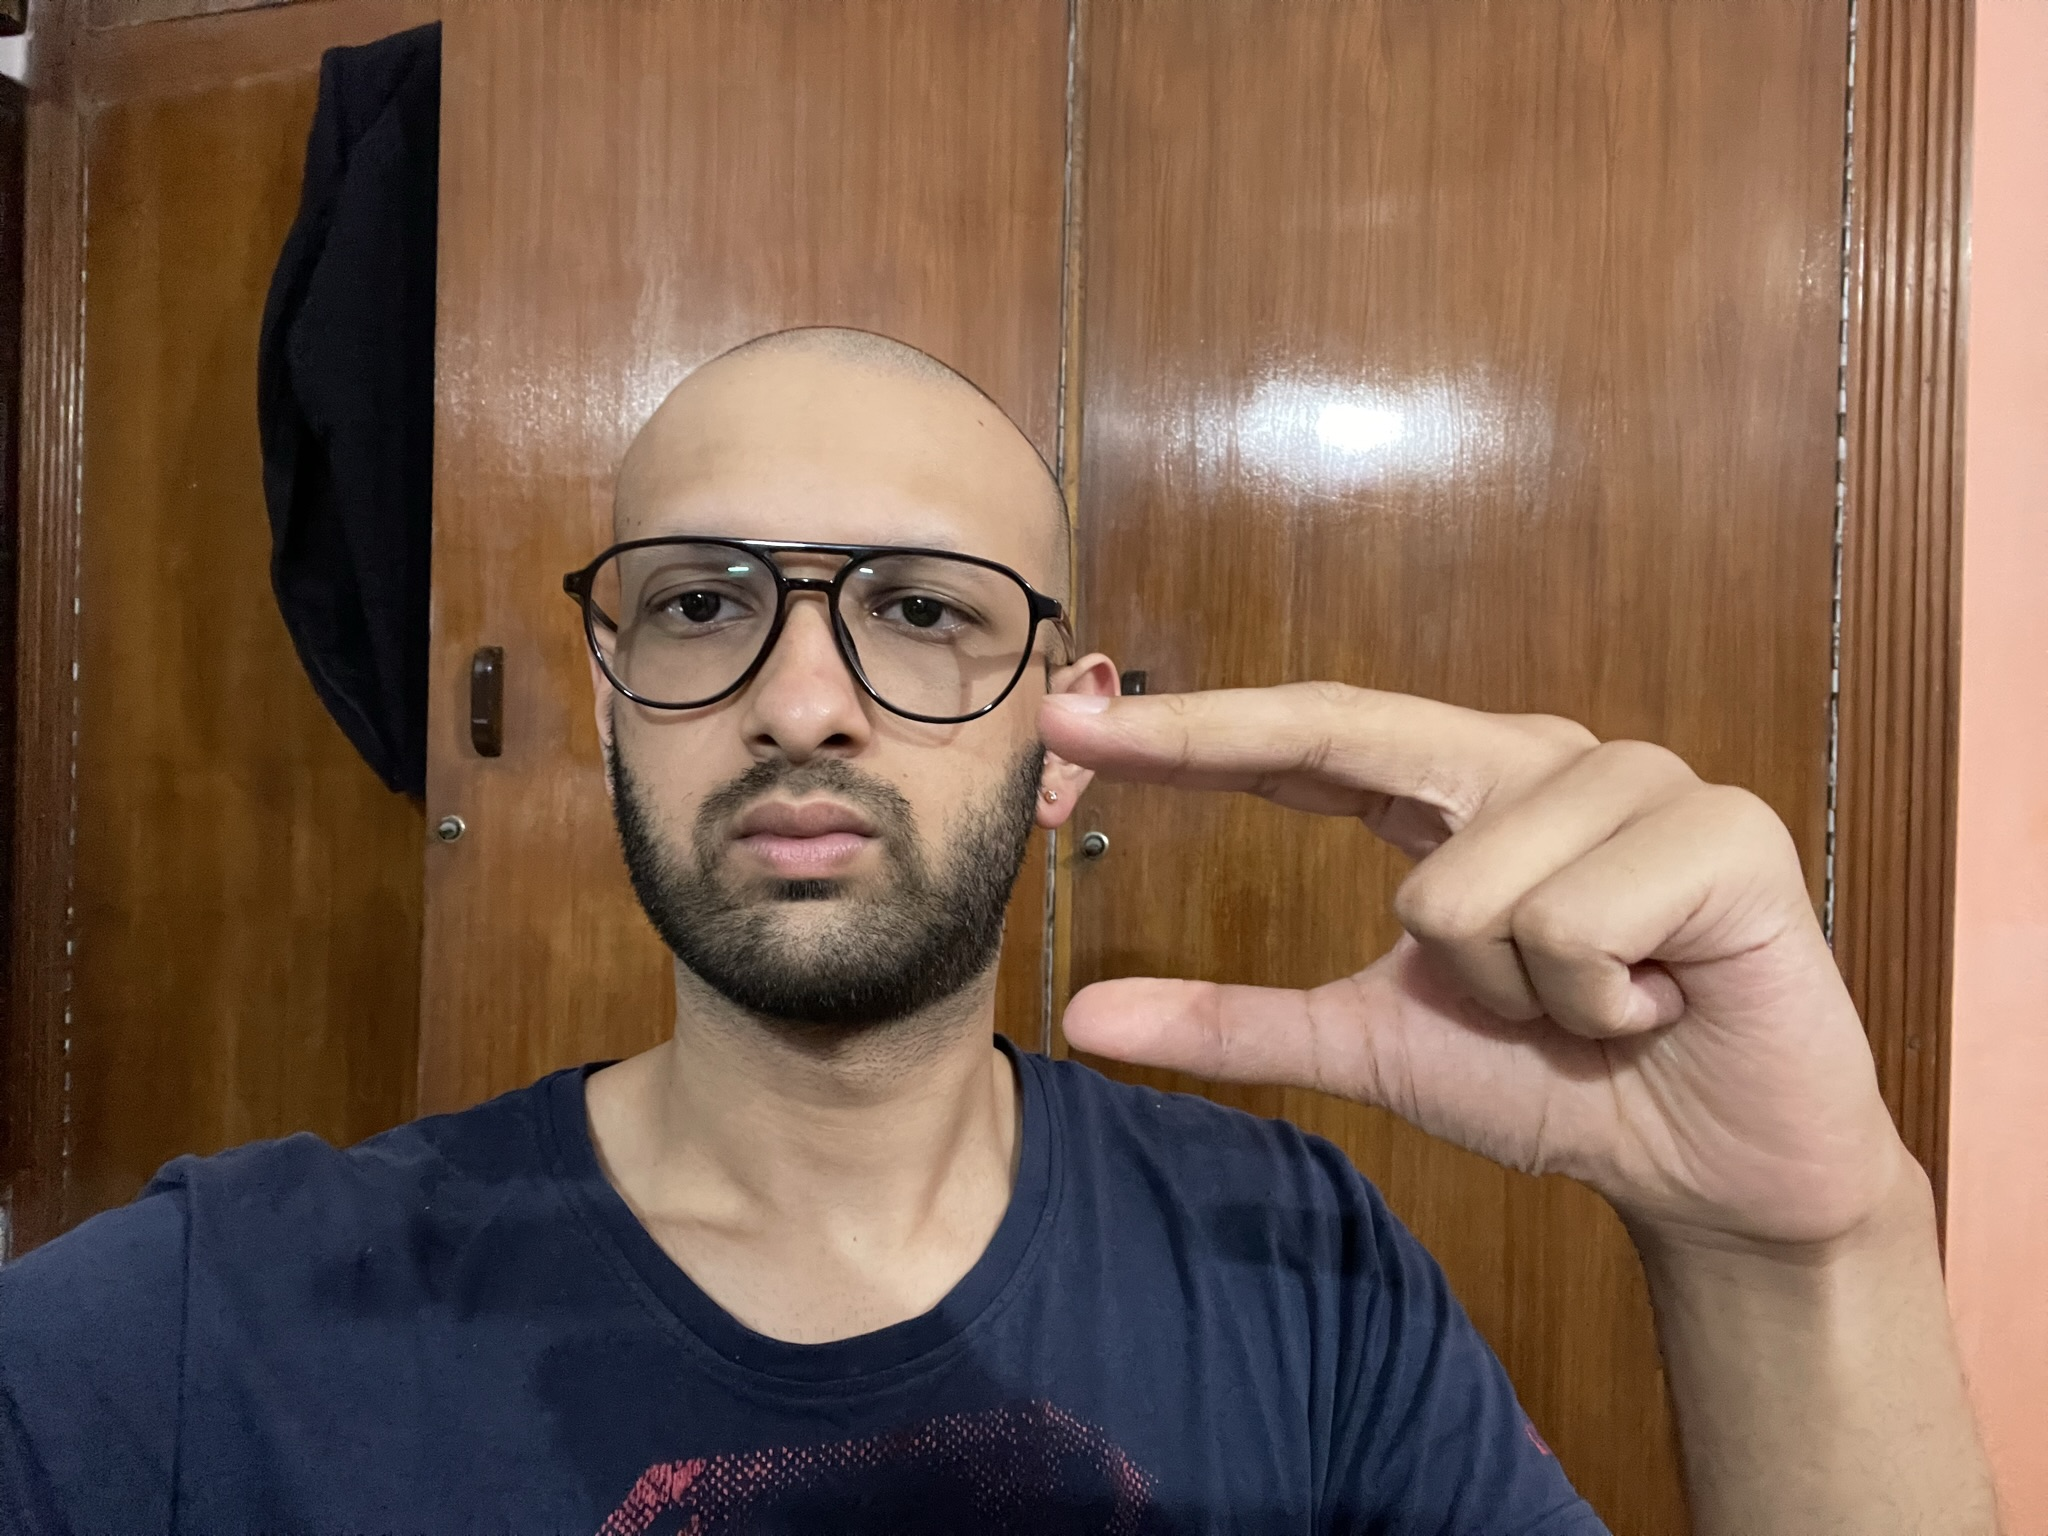No: (1022, 668, 1908, 1246)
